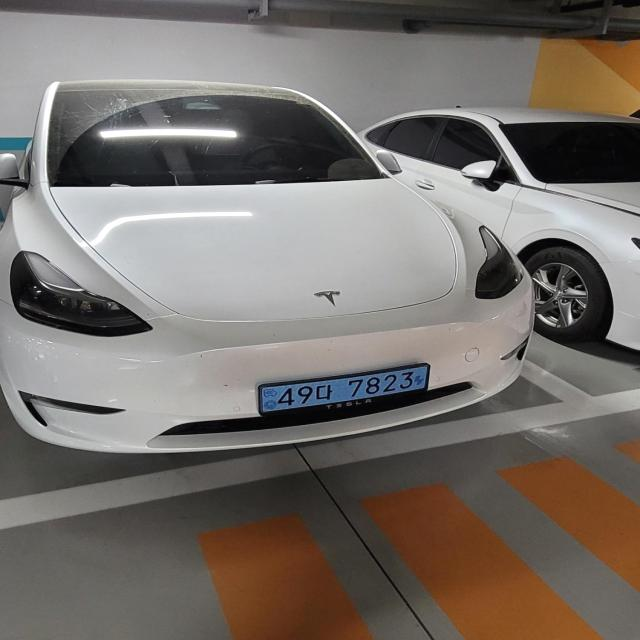EV_plate: (254, 364, 436, 424)
car: (1, 76, 538, 463)
